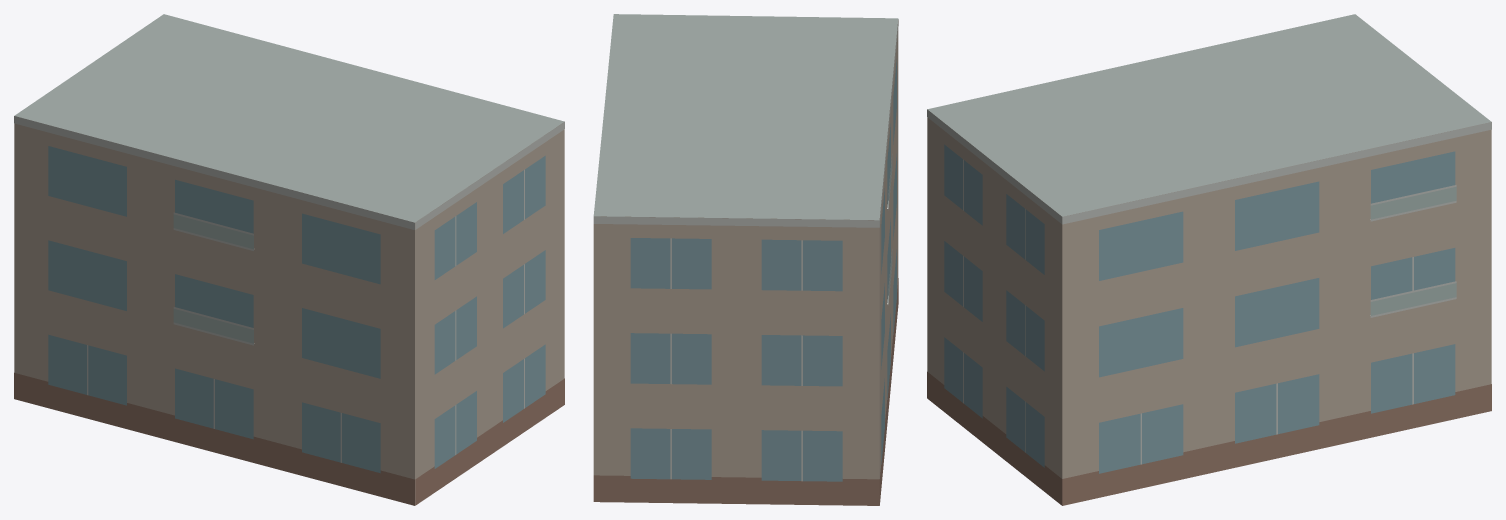
File: survey-upis-32949680.glb
The picture shows the model from 3 angles, left to right: view 1: azimuth 30°, elevation 25°; view 2: azimuth 150°, elevation 25°; view 3: azimuth 270°, elevation 25°; orthographic projection. The views are drawn at different scales.
Parts seen in each view (by area): view 1: survey-upis-32949680.tmp; view 2: survey-upis-32949680.tmp; view 3: survey-upis-32949680.tmp.
Part boxes in pixels (x1,y1,x2,y2): survey-upis-32949680.tmp: [14, 14, 564, 505]; survey-upis-32949680.tmp: [593, 14, 898, 505]; survey-upis-32949680.tmp: [927, 14, 1491, 505].
Bounding box in the file's own units: 13.78 × 9.15 × 16.21.
